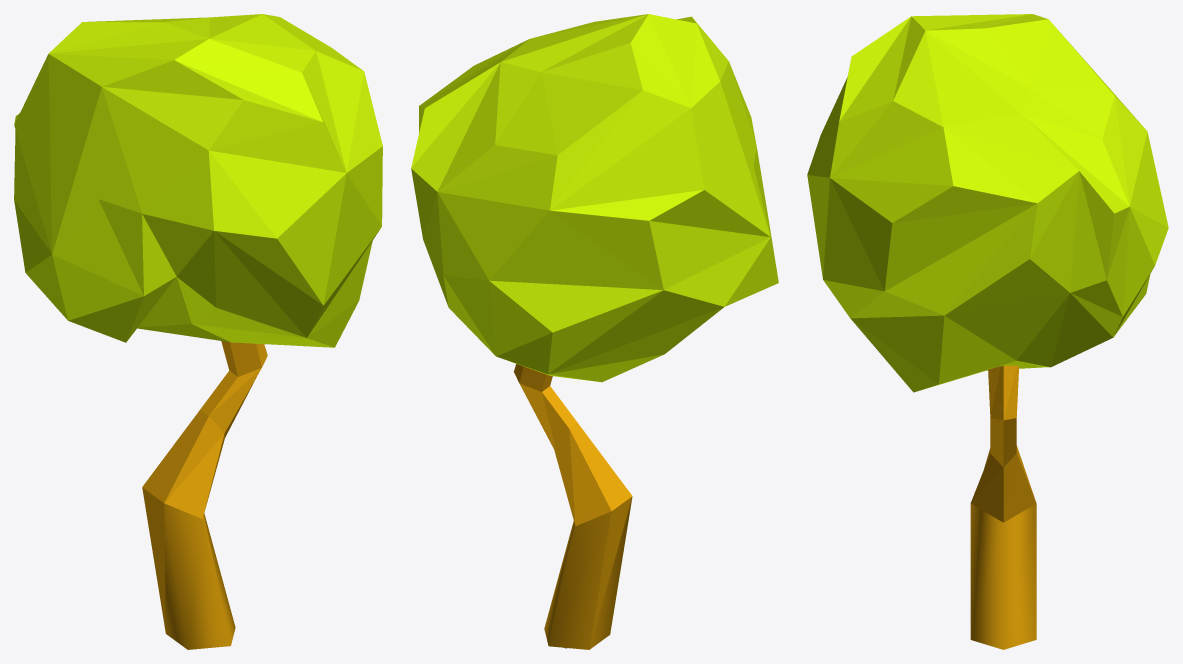
The model's file is tree.glb.
3 views of the same model, side by side, from view 1: azimuth 30°, elevation 25°; view 2: azimuth 150°, elevation 25°; view 3: azimuth 270°, elevation 25° (orthographic). The views are drawn at different scales.
Parts seen in each view (by area): view 1: Hedra001, Cylinder00; view 2: Hedra001, Cylinder00; view 3: Hedra001, Cylinder00.
Boxes of the visible parts, x1,y1,x2,y2 form: Hedra001: [14, 14, 382, 347]; Cylinder00: [142, 341, 267, 649]; Hedra001: [411, 14, 778, 382]; Cylinder00: [514, 364, 632, 649]; Hedra001: [807, 14, 1168, 392]; Cylinder00: [970, 365, 1036, 649].
Bounding box in the file's own units: 65.79 × 122 × 67.59.
